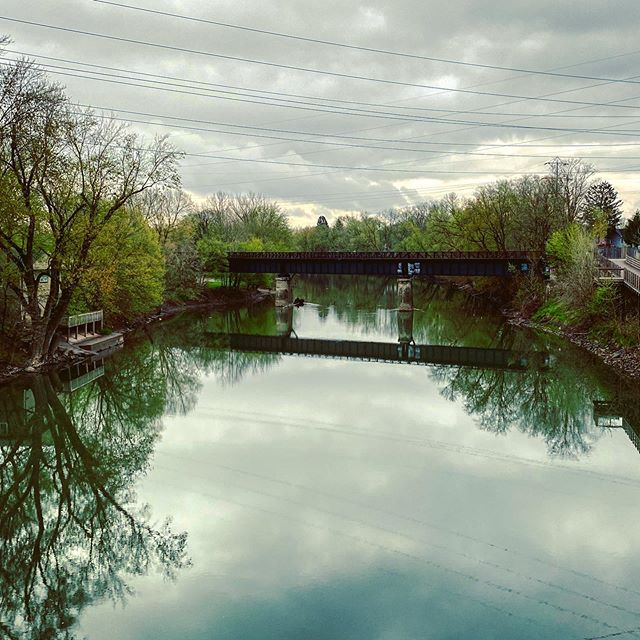bridge: (204, 223, 553, 310)
river: (1, 340, 622, 640)
sky: (57, 1, 628, 204)
tree: (1, 73, 171, 391)
